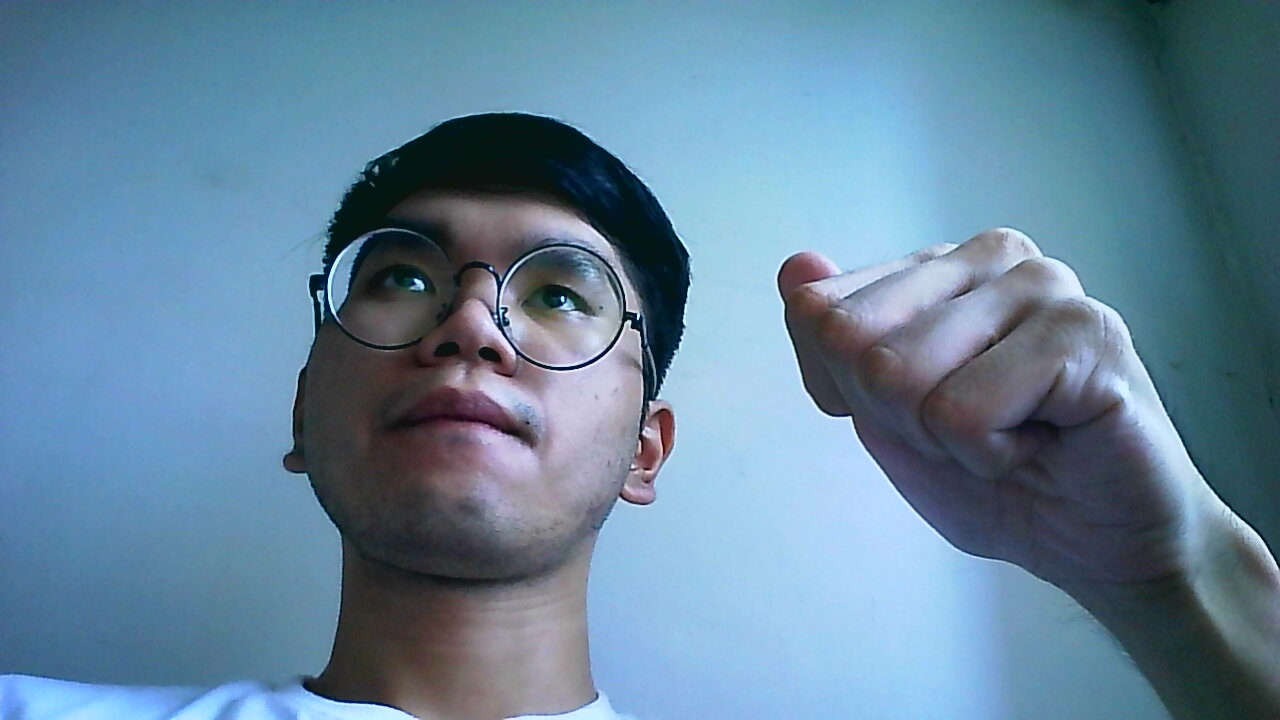thumbs: (777, 226, 1204, 627)
